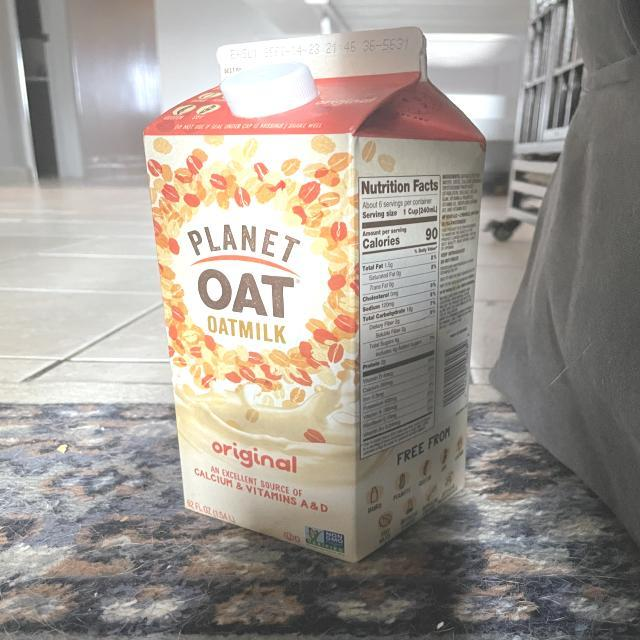Planet Oat Original: (140, 20, 493, 579)
